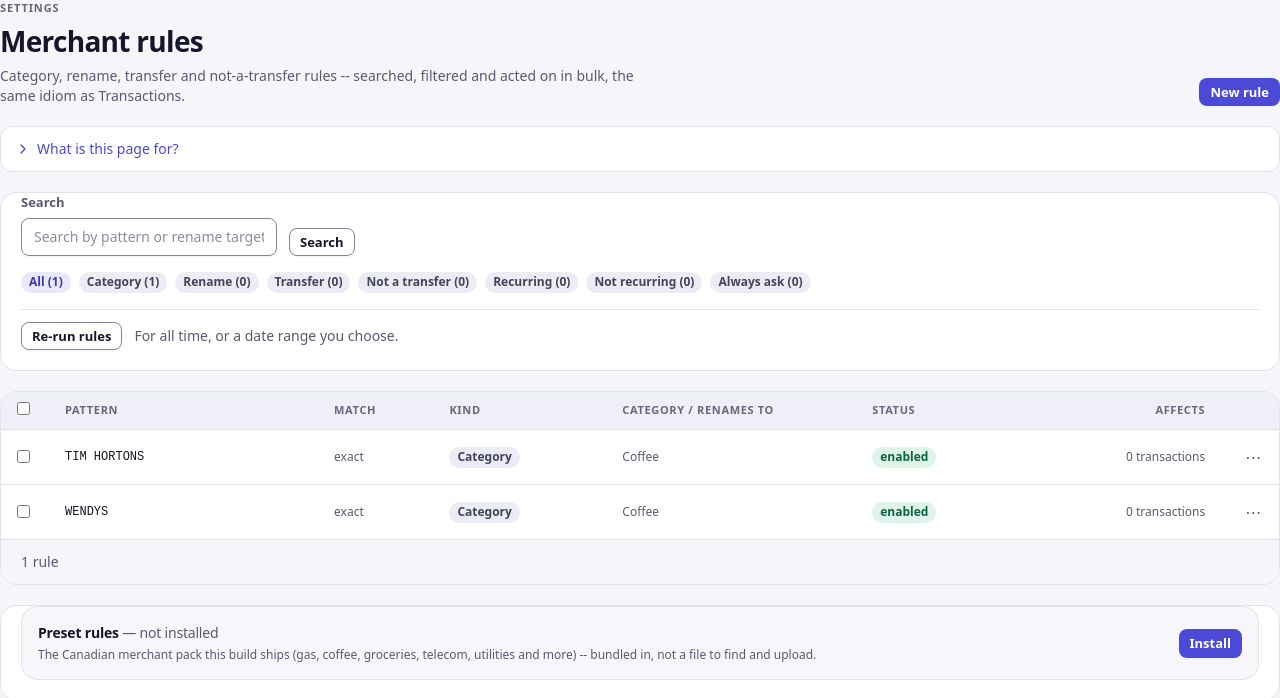
MerchantRulesClient — bulk delete confirm (RowDialog, item 10) › opens a labelled dialog naming how many rules it will delete
Click the checkbox named "Select rule TIM HORTONS" at (24, 456), box [17, 450, 30, 463]
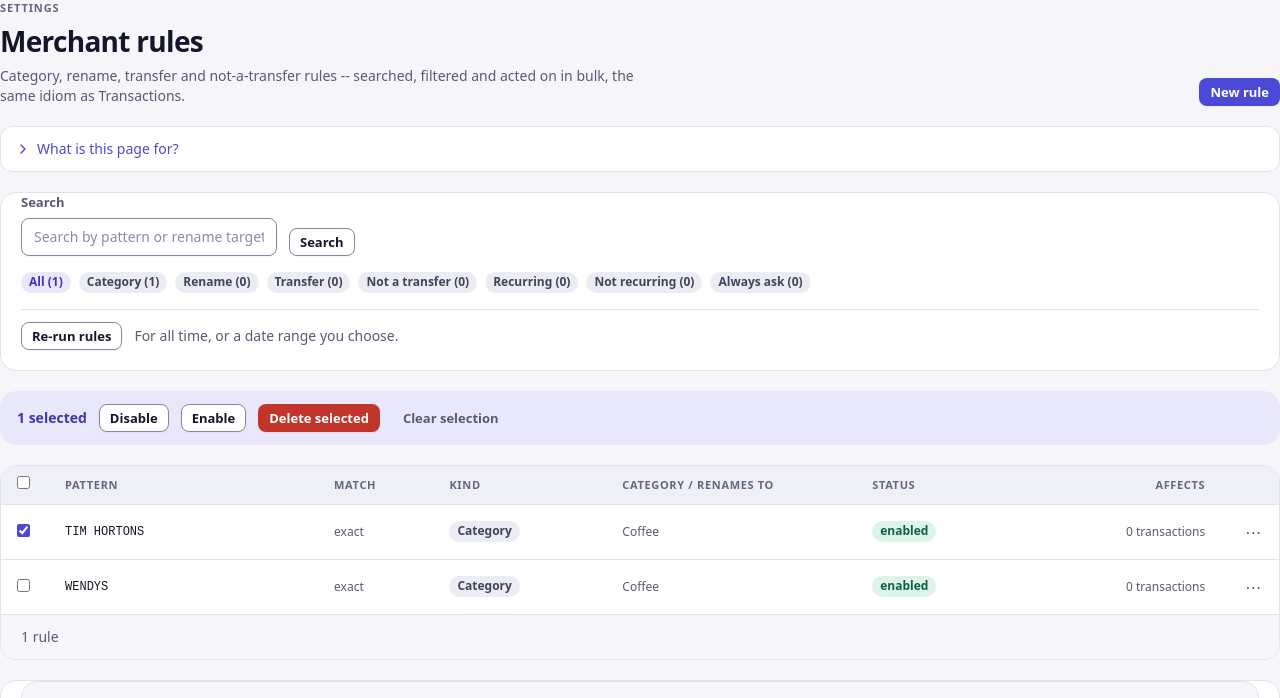
Click the checkbox named "Select rule WENDYS" at (24, 586), box [17, 579, 30, 592]
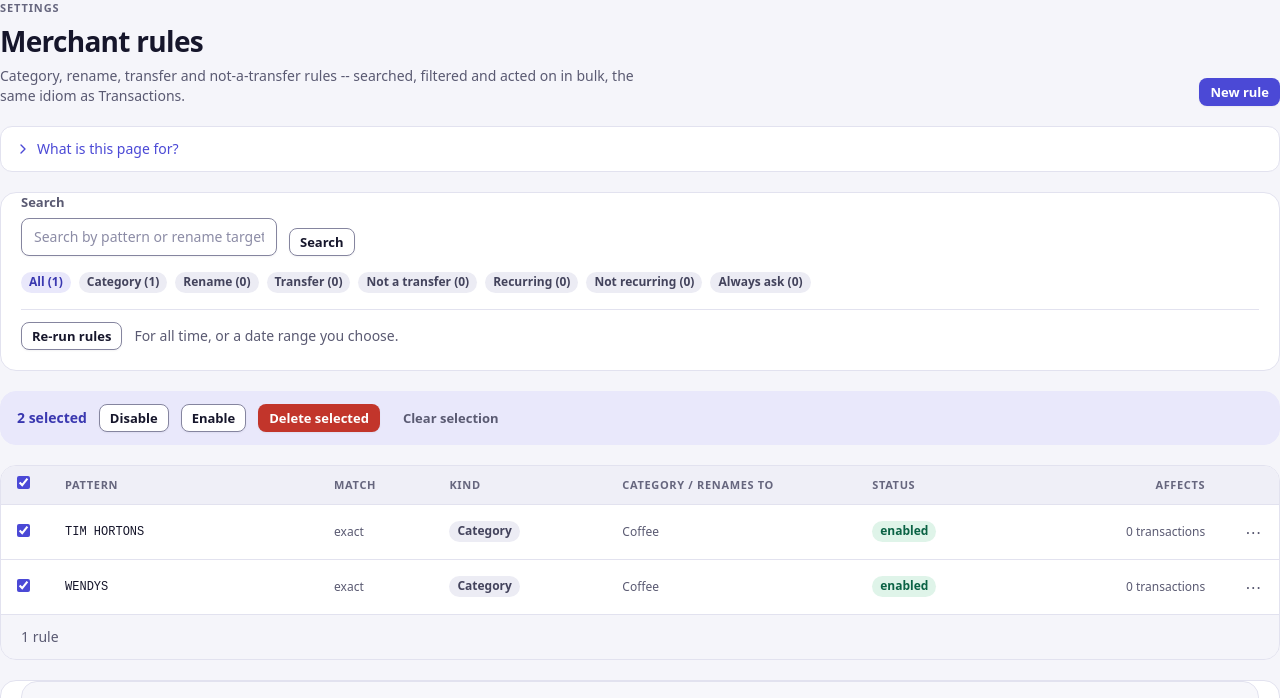
Click the button "Delete selected" at (319, 418), box [258, 404, 380, 432]
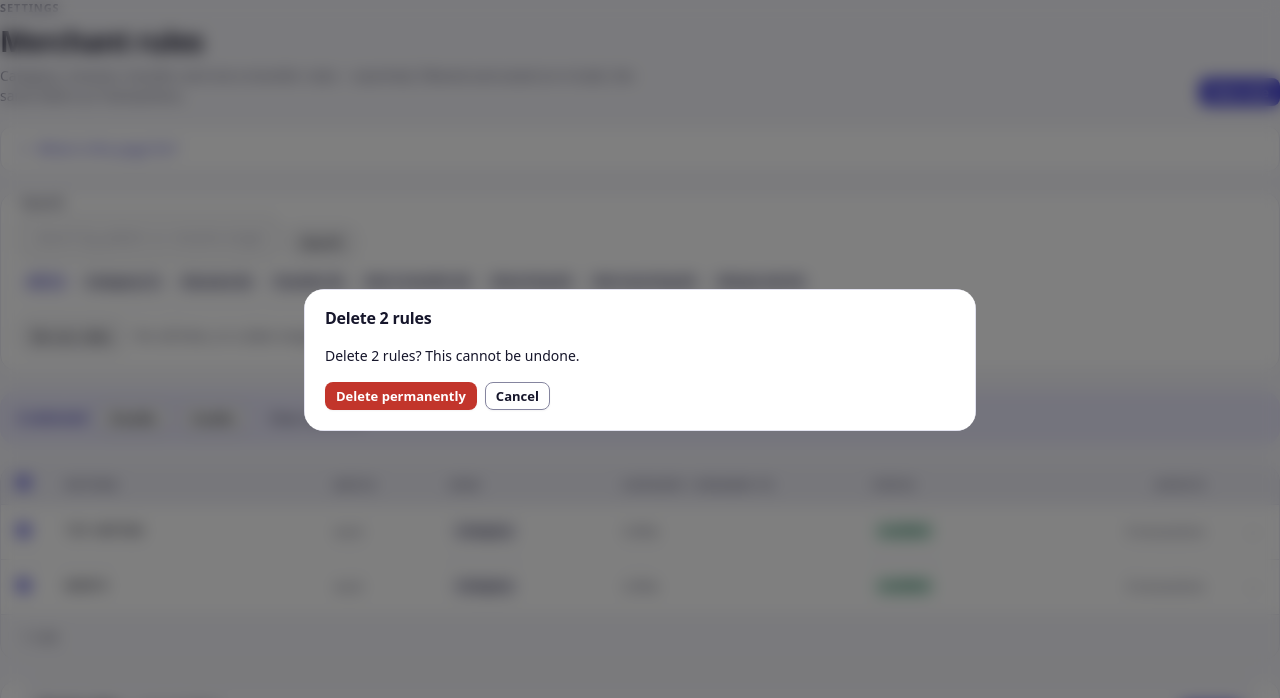
Expected: the dialog "Delete 2 rules" is shown, [304, 289, 976, 431]
